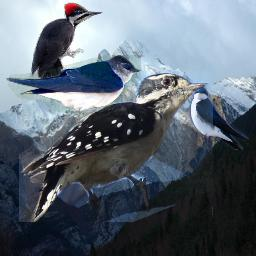Swallow: (6, 55, 141, 122), (189, 85, 249, 150)
Woodpecker: (19, 71, 213, 222), (28, 2, 104, 91)
